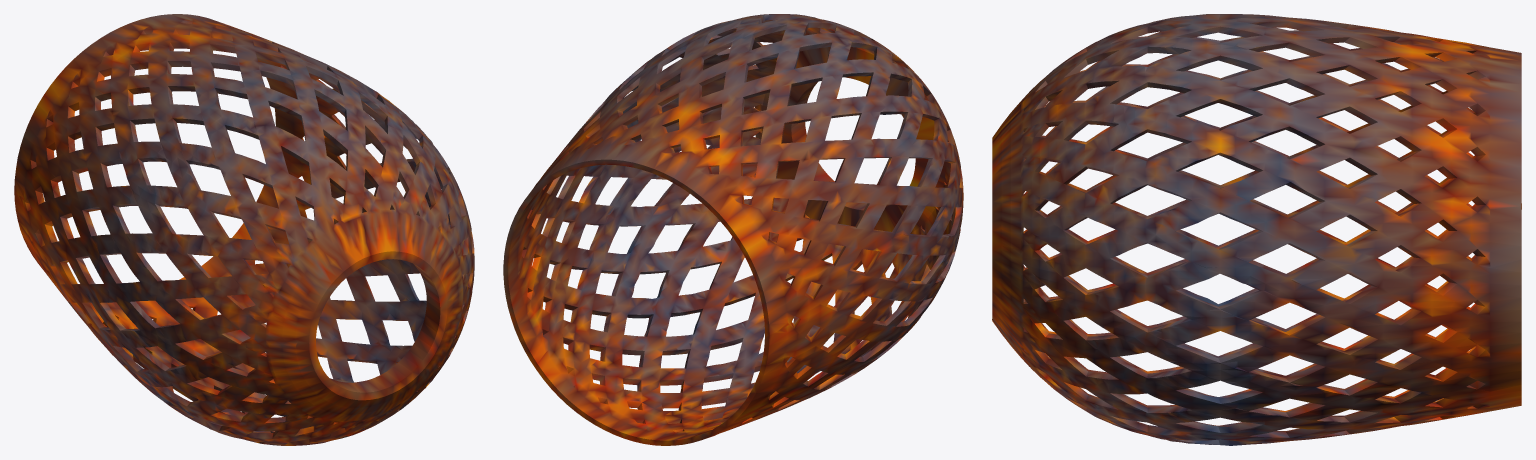
File: lamp_shade_14_final300.obj
3 renders of one model, left to right at view 1: azimuth 30°, elevation 25°; view 2: azimuth 150°, elevation 25°; view 3: azimuth 270°, elevation 25°, orthographic. The views are drawn at different scales.
Bounding box in the file's own units: 1.21 × 1.21 × 1.49.
